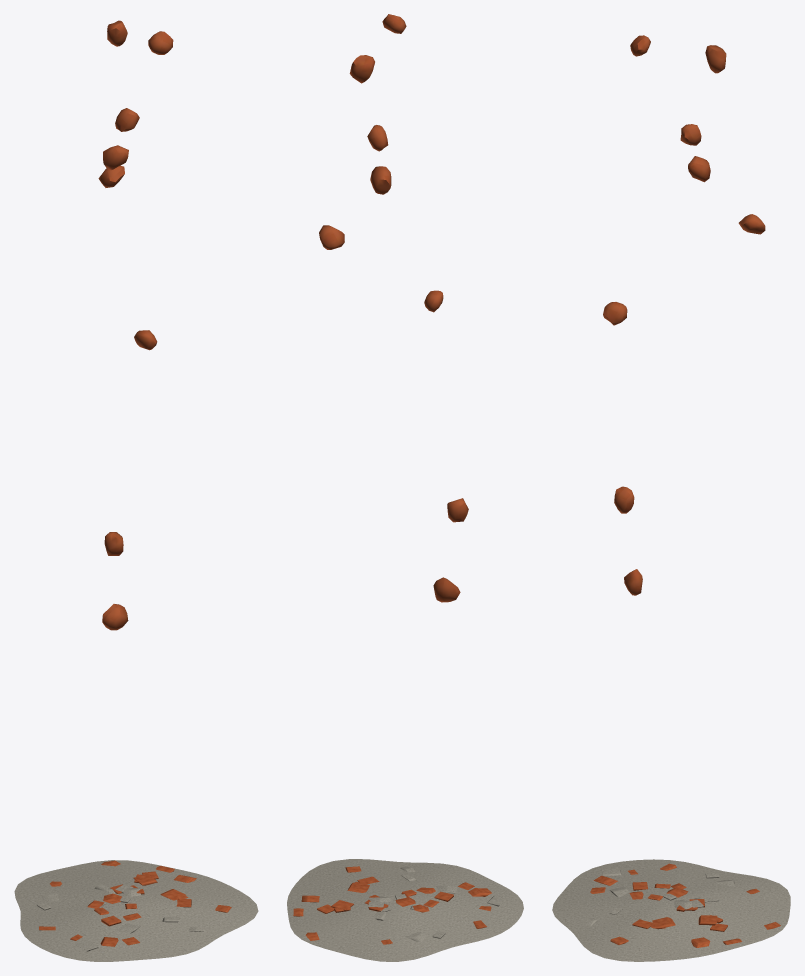
File: SER-DEM-001_anim.glb
3 views of the same model, side by side, from view 1: azimuth 30°, elevation 25°; view 2: azimuth 150°, elevation 25°; view 3: azimuth 270°, elevation 25° (orthographic).
Visible parts, largest first — view 1: SER-DEM-001_anim_monte, SER-DEM-001_anim_t0; view 2: SER-DEM-001_anim_monte, SER-DEM-001_anim_t7; view 3: SER-DEM-001_anim_monte.
Boxes of the visible parts, bbox=[...] form: SER-DEM-001_anim_monte: bbox=[14, 860, 258, 961]; SER-DEM-001_anim_t0: bbox=[102, 604, 128, 630]; SER-DEM-001_anim_monte: bbox=[287, 859, 523, 961]; SER-DEM-001_anim_t7: bbox=[349, 55, 374, 83]; SER-DEM-001_anim_monte: bbox=[552, 859, 790, 961].
Bounding box in the file's own units: 0.4117 × 1.66 × 0.4047.
Materials: 2 (2 with a texture image).
